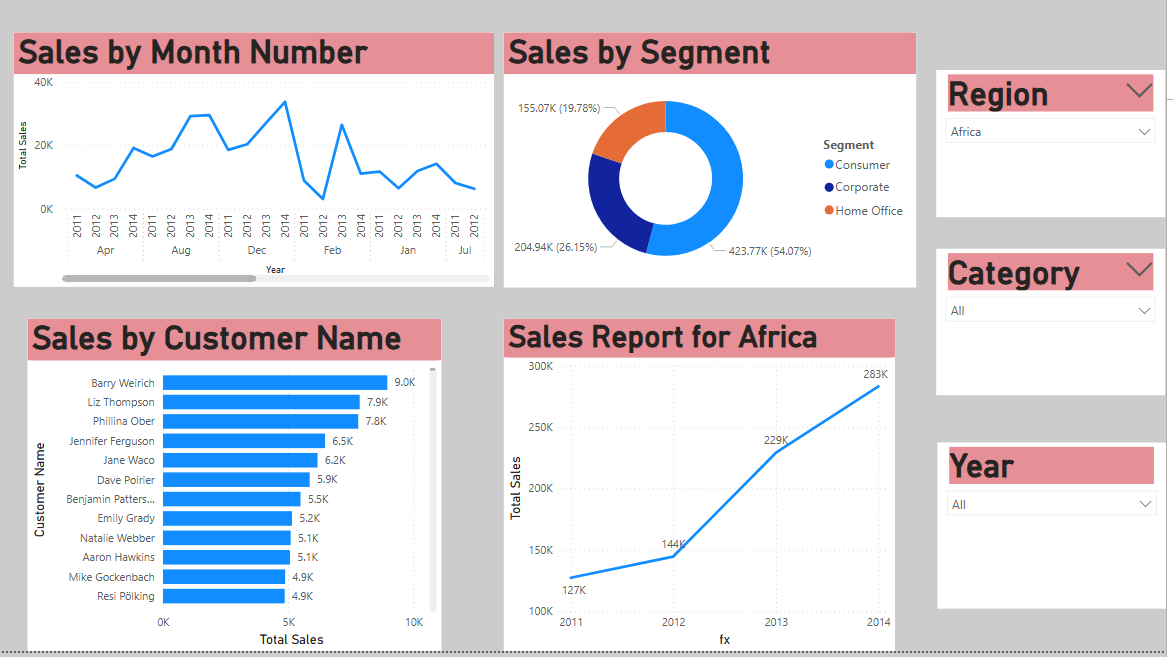

This screenshot's page, from the dashboard's own definition file:
{"tool":"powerbi","page":{"name":"Page 2","canvas":[1280,720],"ordinal":1},"visuals":[{"type":"lineChart","title":" Sales by Month Number","fields":{"Y":["Global Superstar.Total Sales"],"Category":["Global Superstar.Month","Global Superstar.Year"]},"box":[15.7,41.3,527.4,279.4],"z":0},{"type":"barChart","title":"Sales by Customer Name","fields":{"Category":["Global Superstar.Customer Name"],"Y":["Global Superstar.Total Sales"]},"box":[30.2,355.4,454.2,365],"z":1000},{"type":"donutChart","title":" Sales by Segment","fields":{"Category":["Global Superstar.Segment"],"Y":["Global Superstar.Total Sales"]},"box":[553,41.2,452.8,279.9],"z":2000},{"type":"slicer","fields":{"Values":["Global Superstar.Region"]},"box":[1027.8,82.3,251.1,161.9],"z":3000},{"type":"slicer","fields":{"Values":["Global Superstar.Category"]},"box":[1027.8,278.6,251.1,160.5],"z":4000},{"type":"slicer","fields":{"Values":["Global Superstar.Year"]},"box":[1029.1,491.8,250.9,182.4],"z":5000},{"type":"lineChart","fields":{"Category":["Global Superstar.Order Date.Variation.Date Hierarchy.Year","Global Superstar.Order Date.Variation.Date Hierarchy.Quarter","Global Superstar.Order Date.Variation.Date Hierarchy.Month","Global Superstar.Order Date.Variation.Date Hierarchy.Day"],"Y":["Global Superstar.Total Sales"]},"box":[553,355.4,429.5,365],"z":5001}]}

Visuals, with their boxes in screenshot pixels (x1, y1, x2, y2), scaled from the page's 1280x720 canvas onto the 1173x657 screenshot:
" Sales by Month Number" lineChart: (left=14, top=38, right=498, bottom=293)
"Sales by Customer Name" barChart: (left=28, top=324, right=444, bottom=656)
" Sales by Segment" donutChart: (left=507, top=38, right=922, bottom=293)
slicer - Global Superstar.Region: (left=942, top=75, right=1172, bottom=223)
slicer - Global Superstar.Category: (left=942, top=254, right=1172, bottom=401)
slicer - Global Superstar.Year: (left=943, top=449, right=1172, bottom=615)
lineChart - Global Superstar.Order Date.Variation.Date Hierarchy.Year x Global Superstar.Order Date.Variation.Date Hierarchy.Quarter: (left=507, top=324, right=900, bottom=656)
